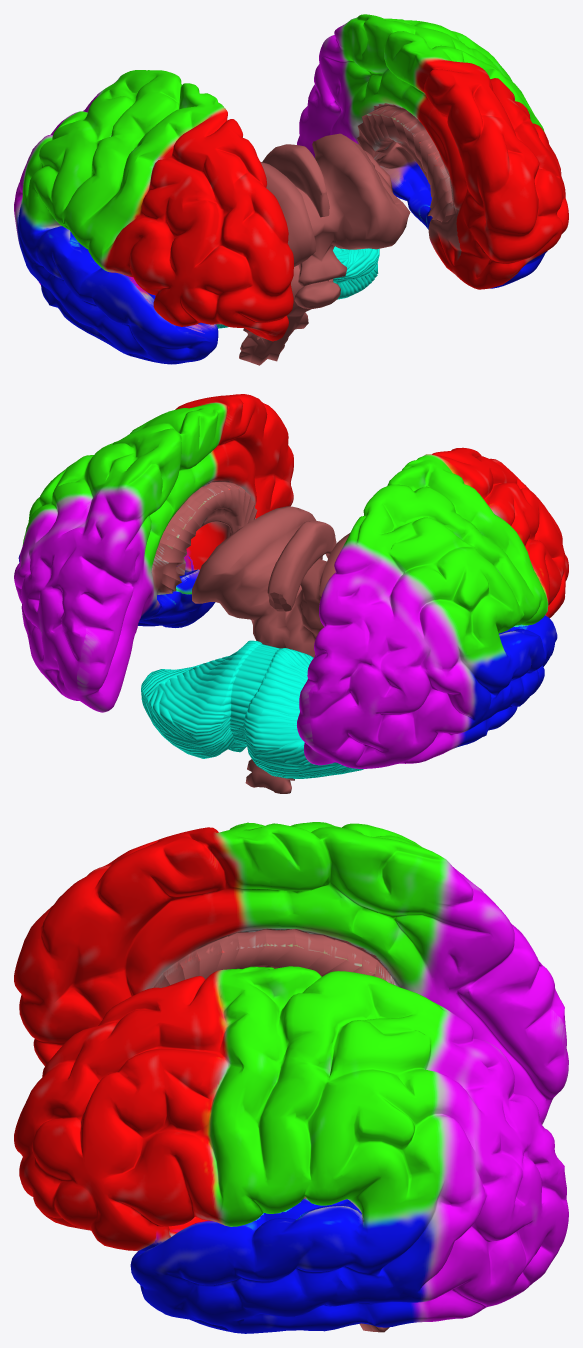
File: brain_model_part_2.glb
3 renders of one model, top to bottom at view 1: azimuth 30°, elevation 25°; view 2: azimuth 150°, elevation 25°; view 3: azimuth 270°, elevation 25°, orthographic. The views are drawn at different scales.
Visible parts, largest first — view 1: Object_4, Object_3, Object_2; view 2: Object_4, Object_3, Object_2; view 3: Object_3, Object_4.
Part boxes in pixels (x1,y1,x2,y2): Object_4: [14, 70, 293, 364]; Object_3: [297, 14, 568, 289]; Object_2: [216, 133, 410, 365]; Object_4: [297, 447, 568, 768]; Object_3: [14, 394, 293, 712]; Object_2: [141, 506, 363, 793]; Object_3: [14, 966, 568, 1333]; Object_4: [14, 822, 568, 1124].
Bounding box in the file's own units: 1.76 × 1.12 × 1.32.
Materials: 1 (1 with a texture image).
